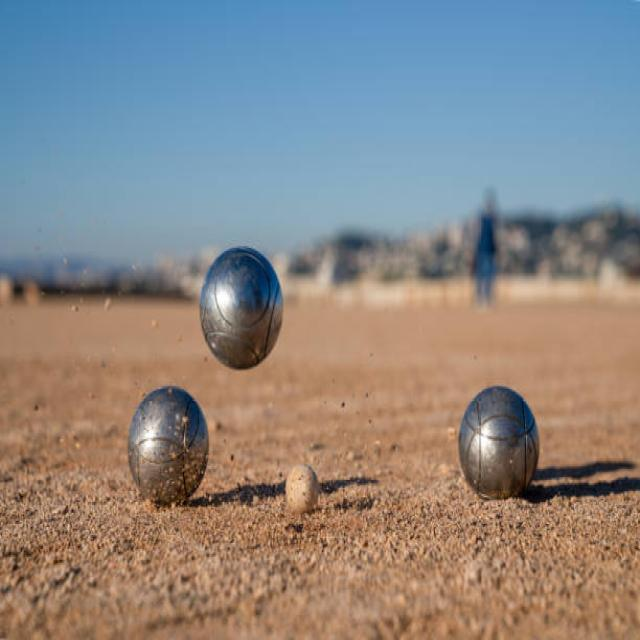hatball: (283, 462, 325, 520)
petanque: (452, 379, 553, 518), (195, 242, 290, 379), (121, 379, 213, 517)
